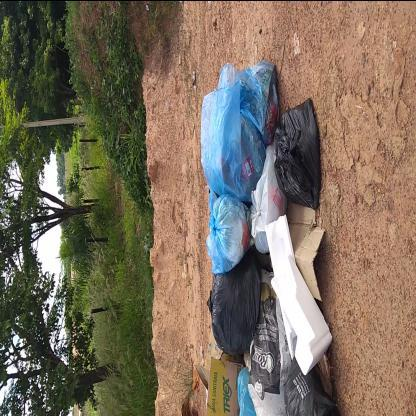lixo: (199, 74, 330, 415)
